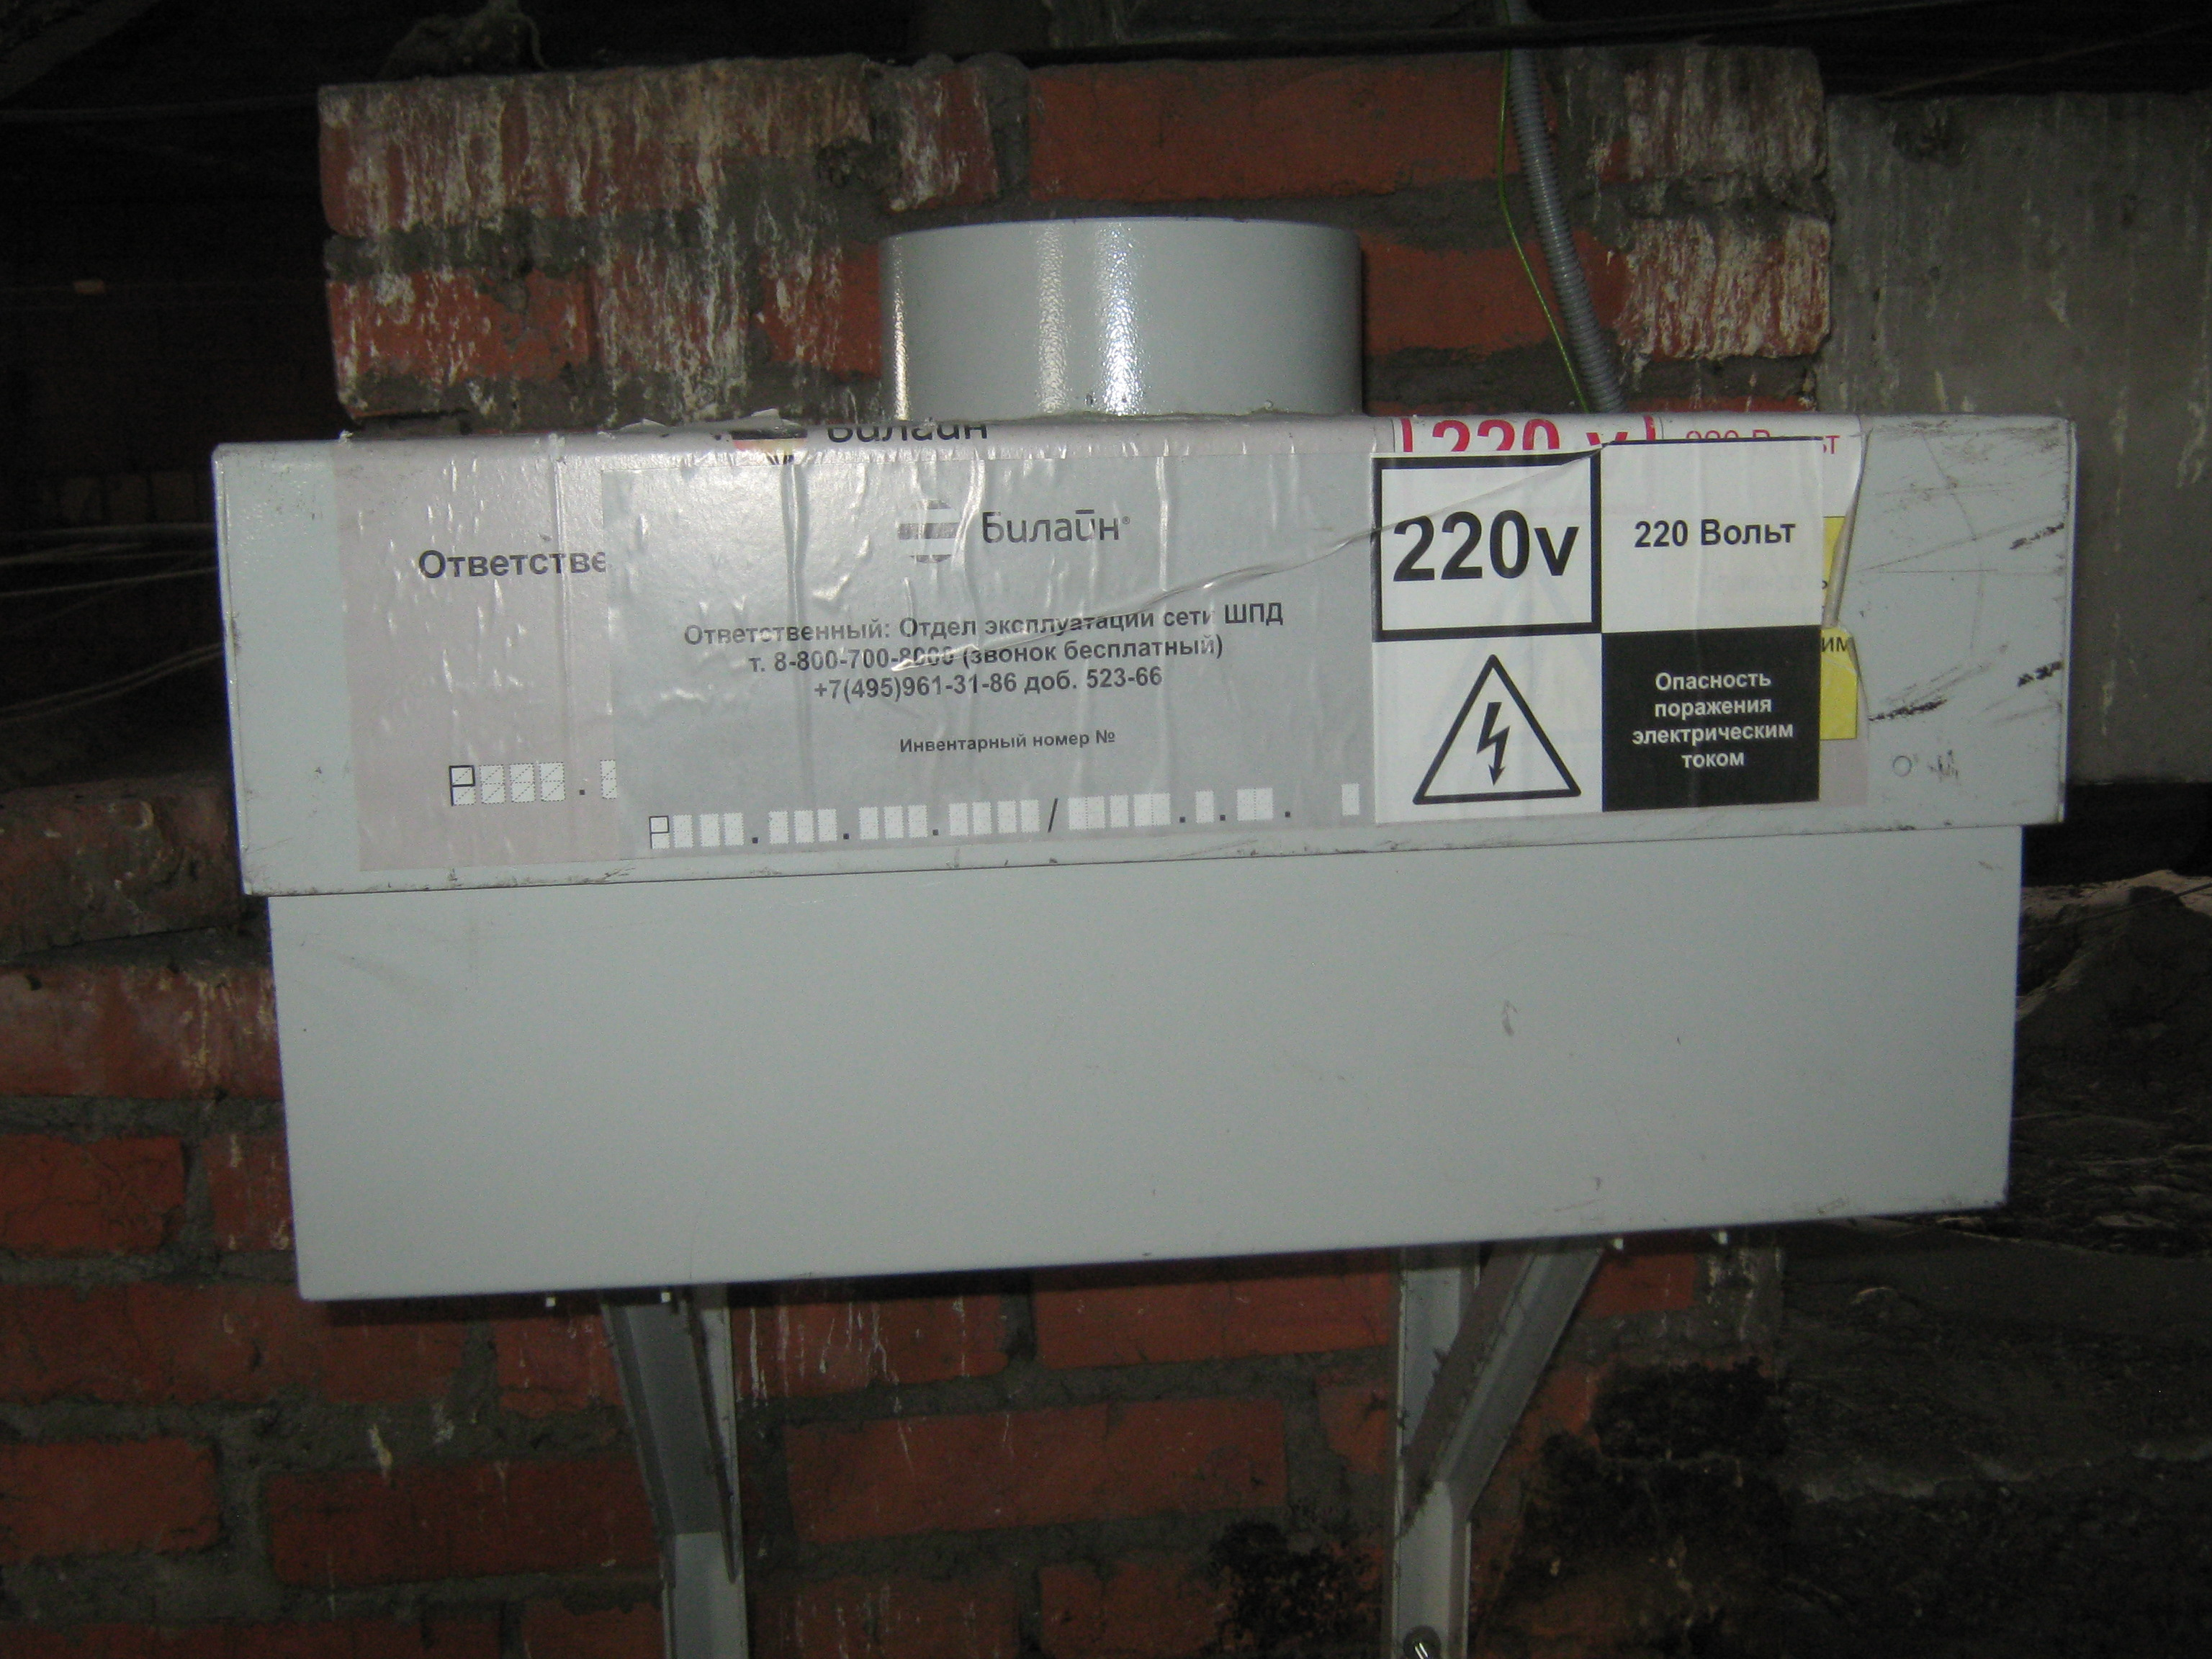shta-ps: (183, 192, 2097, 1321)
